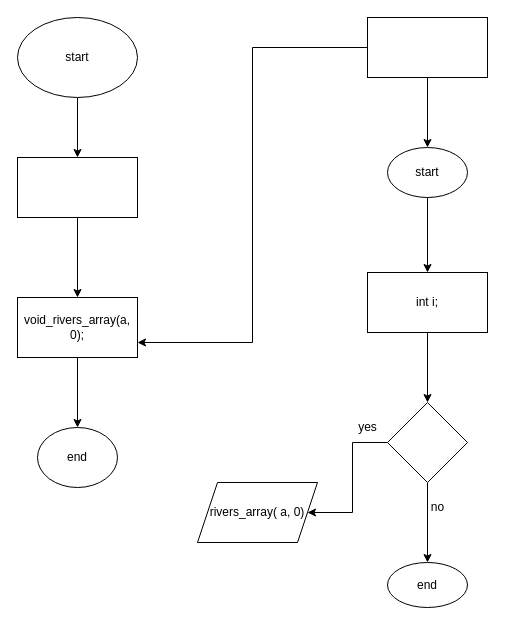
This 505x625 diagram has some shape labels left out. The shapes that lost their labels are listed below. From the top down, each one's centre as x and y in pixels, then its label:
At pixel 427 47: "void_rivers_array(int n [ ], int numbers);".
At pixel 77 187: "int a [ ] = {11, 22, 33, 44, 55, 66, 77, 88, 99, 111 };".
At pixel 427 442: "i >= numbers".
